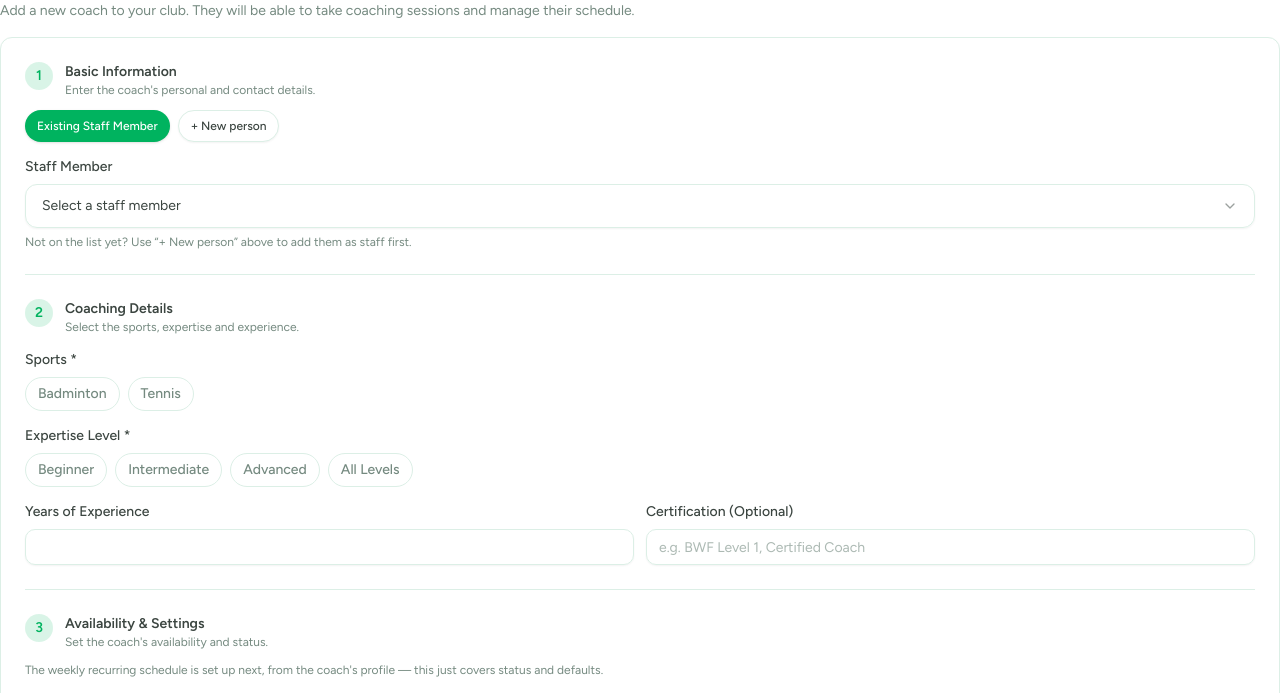
Test: AddCoachPage › keeps Add Coach disabled until a staff member, a sport and an expertise level are chosen
What coordinates should you click on to do the following:
click the dropdown labelled "Select a staff member"
I would click on:
 (111, 206)
Its box is [25,184,1255,228].
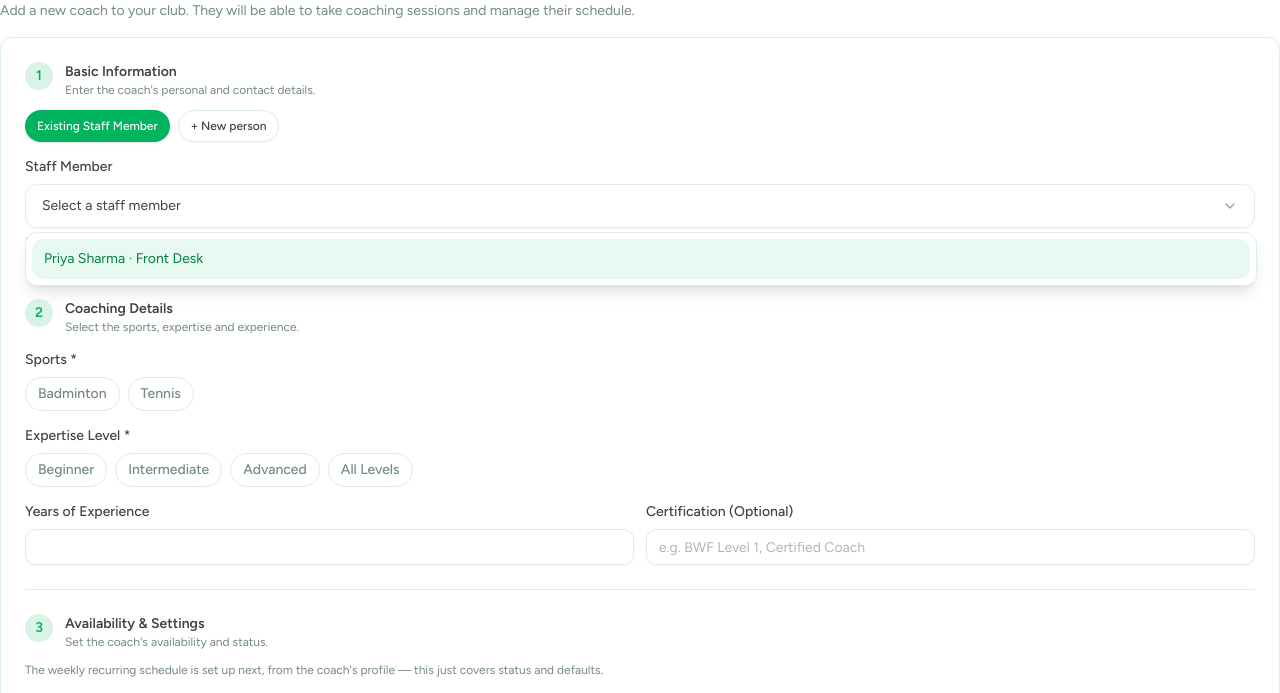
What coordinates should you click on to do the following:
click the option "Priya Sharma · Front Desk"
I would click on:
 (85, 258)
Its box is [32,239,1250,279].
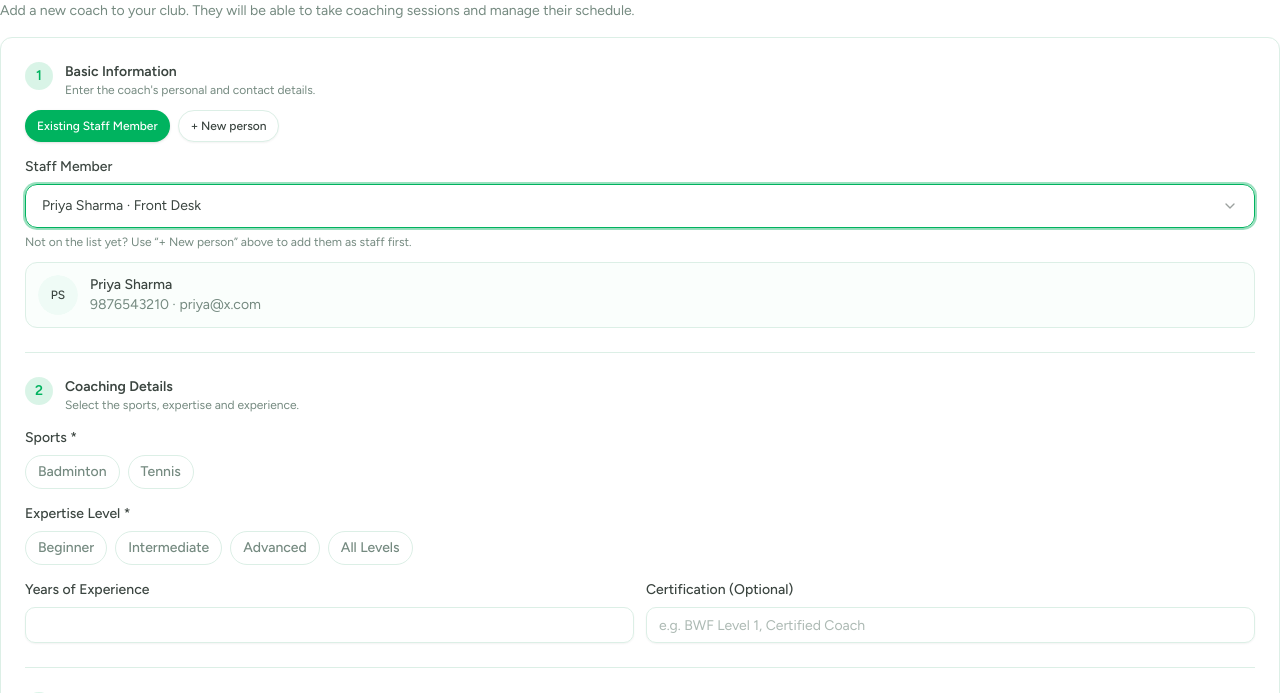
What coordinates should you click on to do the following:
click the button "Badminton"
I would click on:
 (72, 472)
Its box is [25,455,120,489].
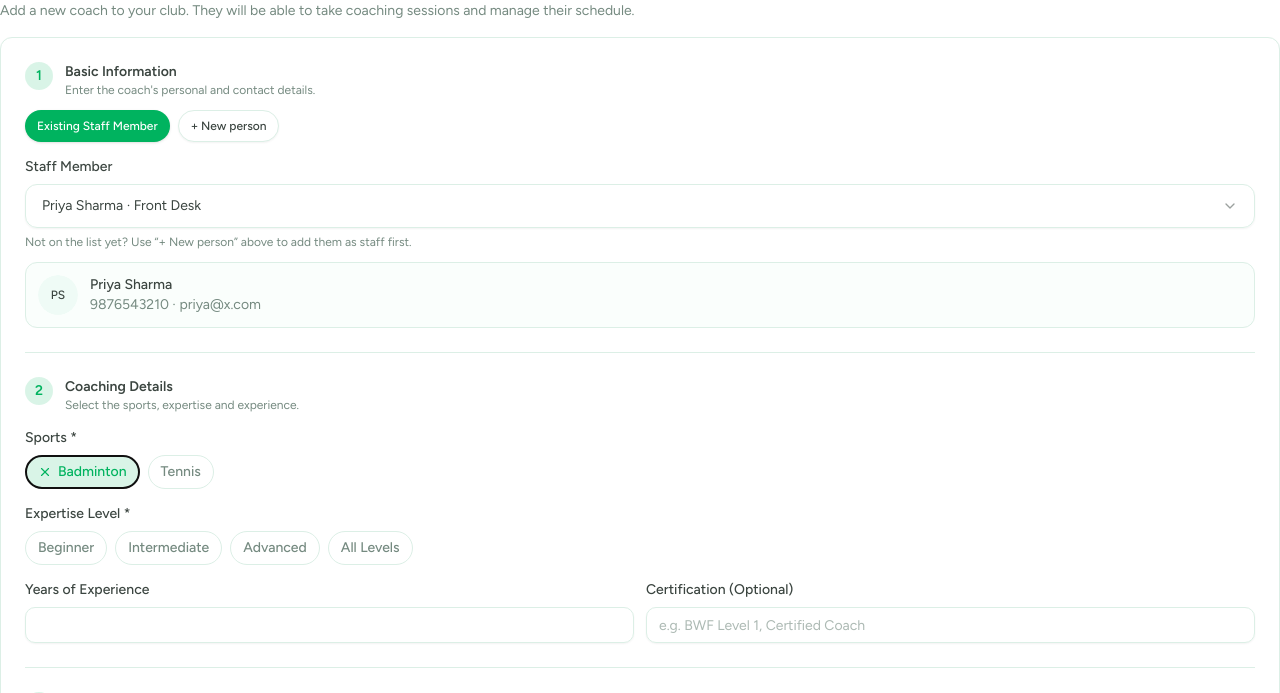
What coordinates should you click on to do the following:
click the button "Beginner"
I would click on:
 (66, 548)
Its box is [25,531,107,565].
(page scrolled)
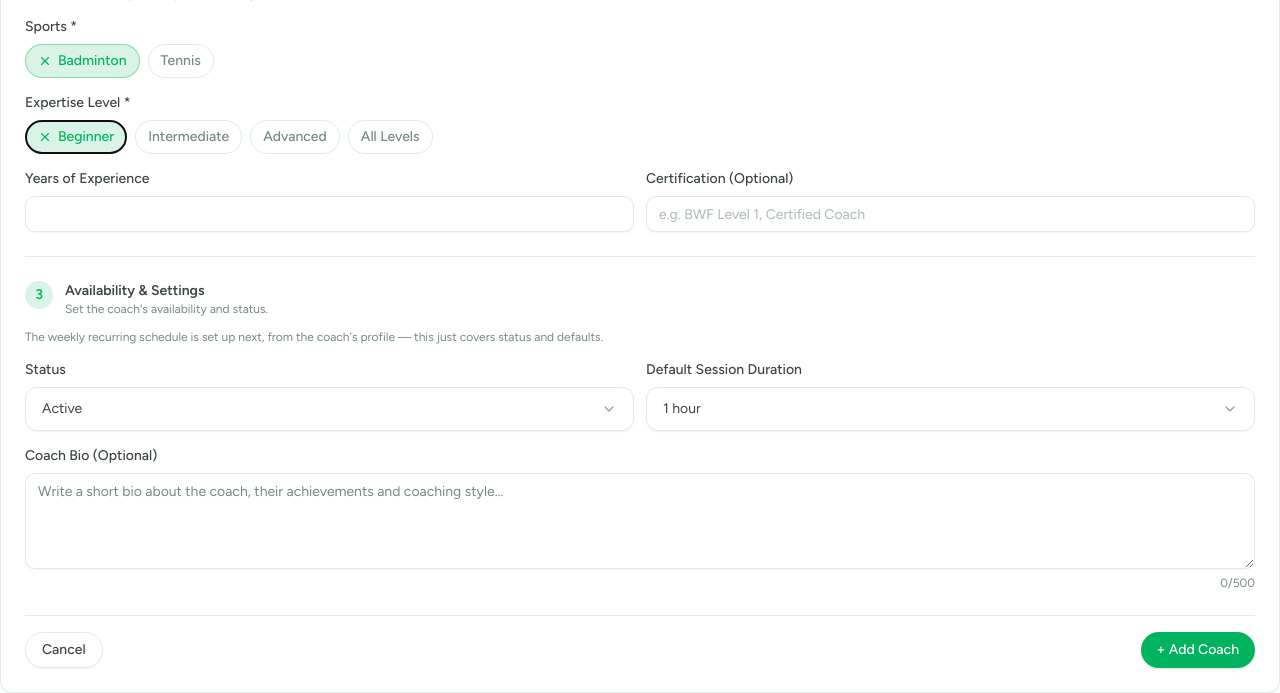
Check: the button "+ Add Coach" is enabled, box [1140,632,1255,668]
